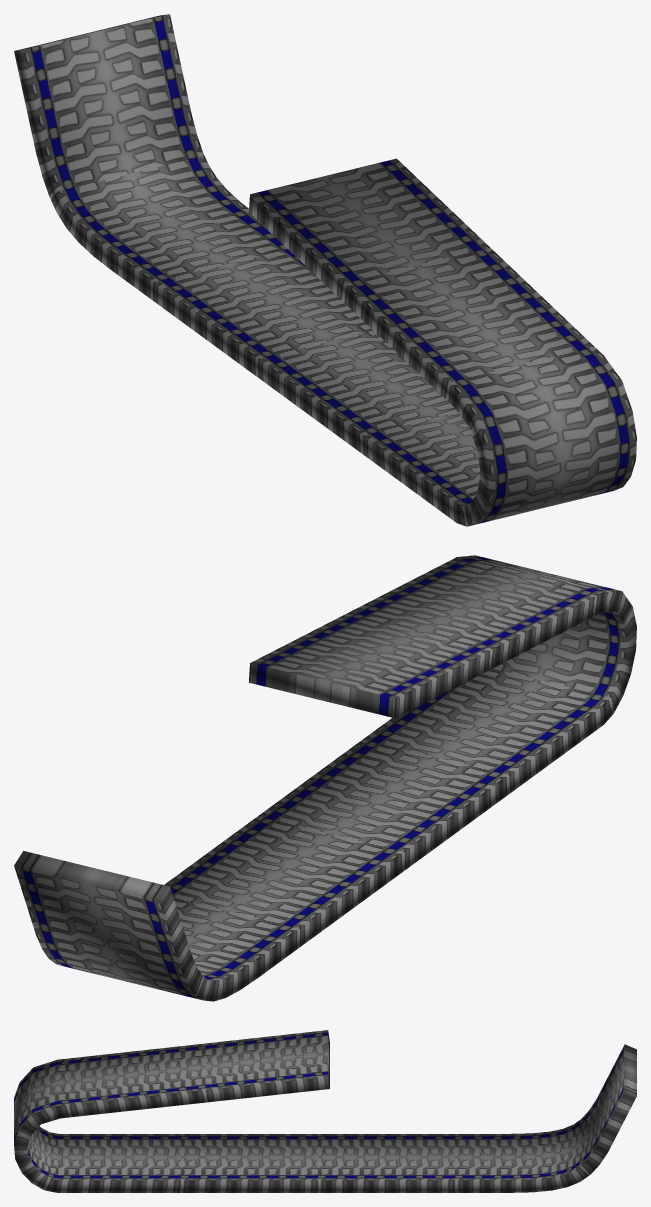
The model's file is Rail.glb.
3 renders of one model, top to bottom at view 1: azimuth 30°, elevation 25°; view 2: azimuth 150°, elevation 25°; view 3: azimuth 270°, elevation 25°, orthographic. The views are drawn at different scales.
Parts seen in each view (by area): view 1: stkkart_caterpillar.png__; view 2: stkkart_caterpillar.png__; view 3: stkkart_caterpillar.png__.
Part boxes in pixels (<box>): stkkart_caterpillar.png__: <box>14,14,636,526</box>; stkkart_caterpillar.png__: <box>14,555,636,1001</box>; stkkart_caterpillar.png__: <box>14,1030,636,1192</box>.
Size of the model in its own units: 0.1476 by 0.1707 by 0.8302.
1 material, 1 textured.
